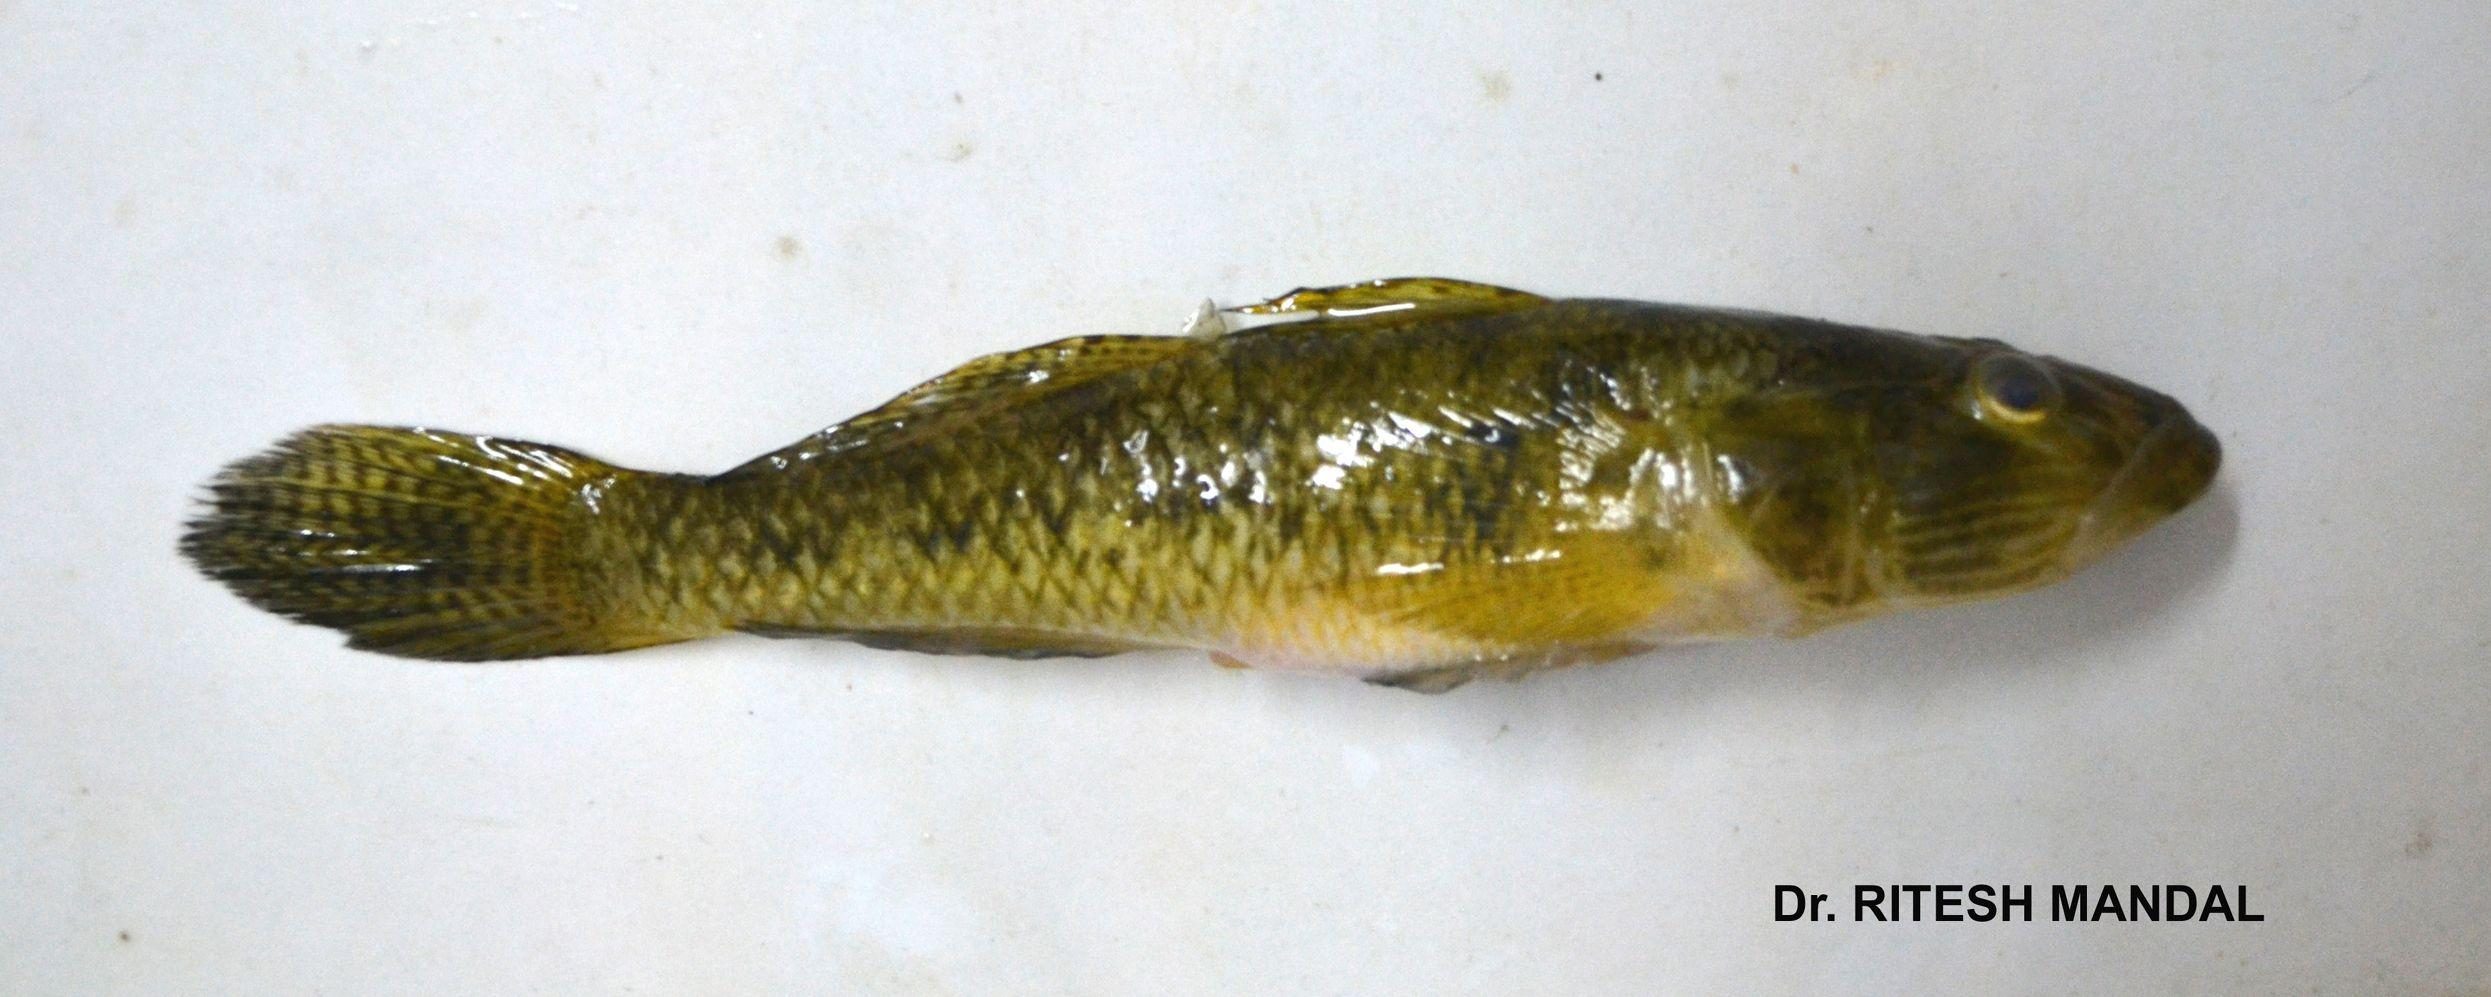Goby: (191, 210, 2234, 724)
